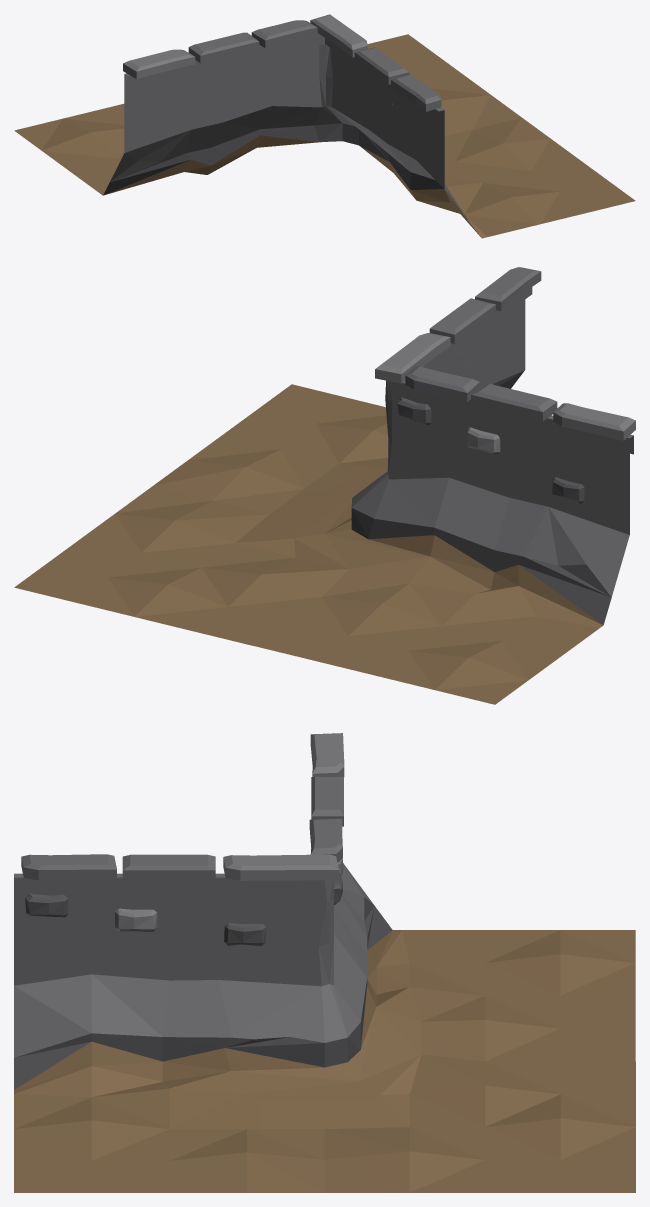
File: SM_Env_Canal_03.gltf
3 views of the same model, one above another, from view 1: azimuth 30°, elevation 25°; view 2: azimuth 150°, elevation 25°; view 3: azimuth 270°, elevation 25° (orthographic). The views are drawn at different scales.
Visible parts, largest first — view 1: SM_Env_Canal_03; view 2: SM_Env_Canal_03; view 3: SM_Env_Canal_03.
Part boxes in pixels (box(x1,y1,x2,y2)): SM_Env_Canal_03: box(14, 14, 635, 238); SM_Env_Canal_03: box(14, 267, 635, 704); SM_Env_Canal_03: box(14, 733, 635, 1192).
Bounding box in the file's own units: 6 × 2.14 × 6.
1 material, 1 textured.
